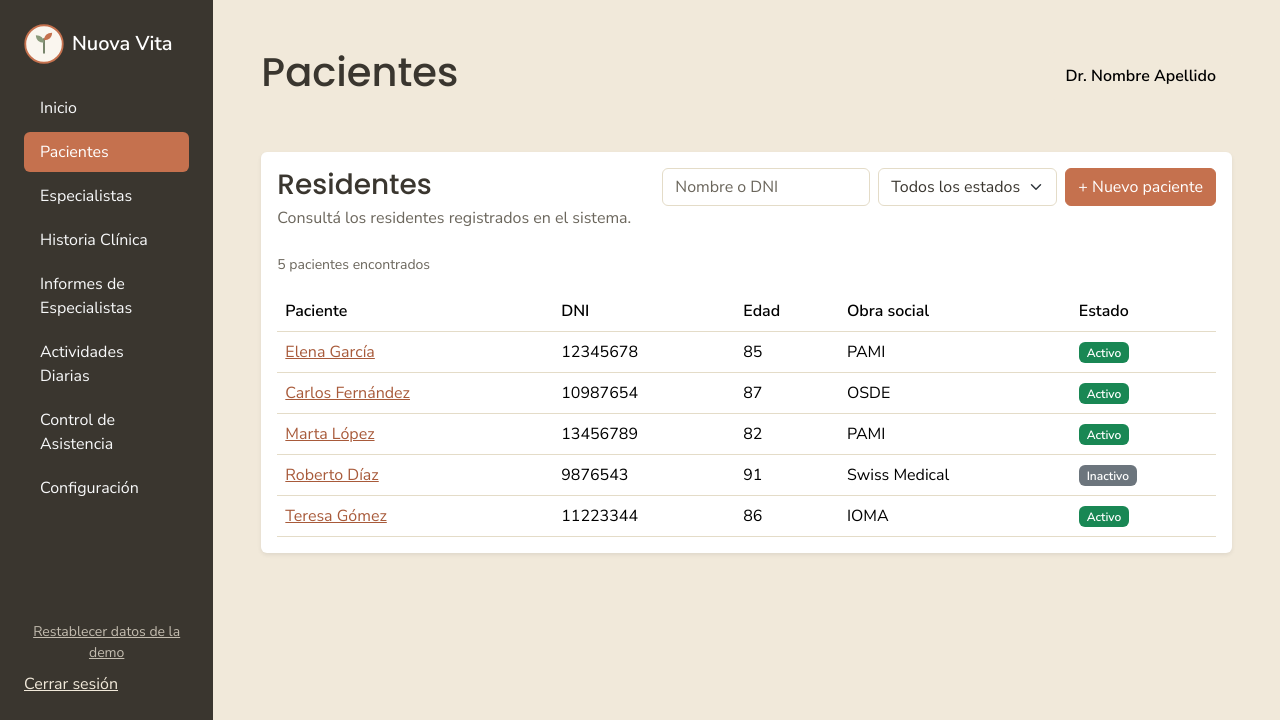
Scenario: ficha y listado › busca por DNI y enlaza cada paciente con su ficha
The image size is (1280, 720).
Type "10987654" into the search field named "Buscar paciente" at [766, 187], box [662,168,870,206]
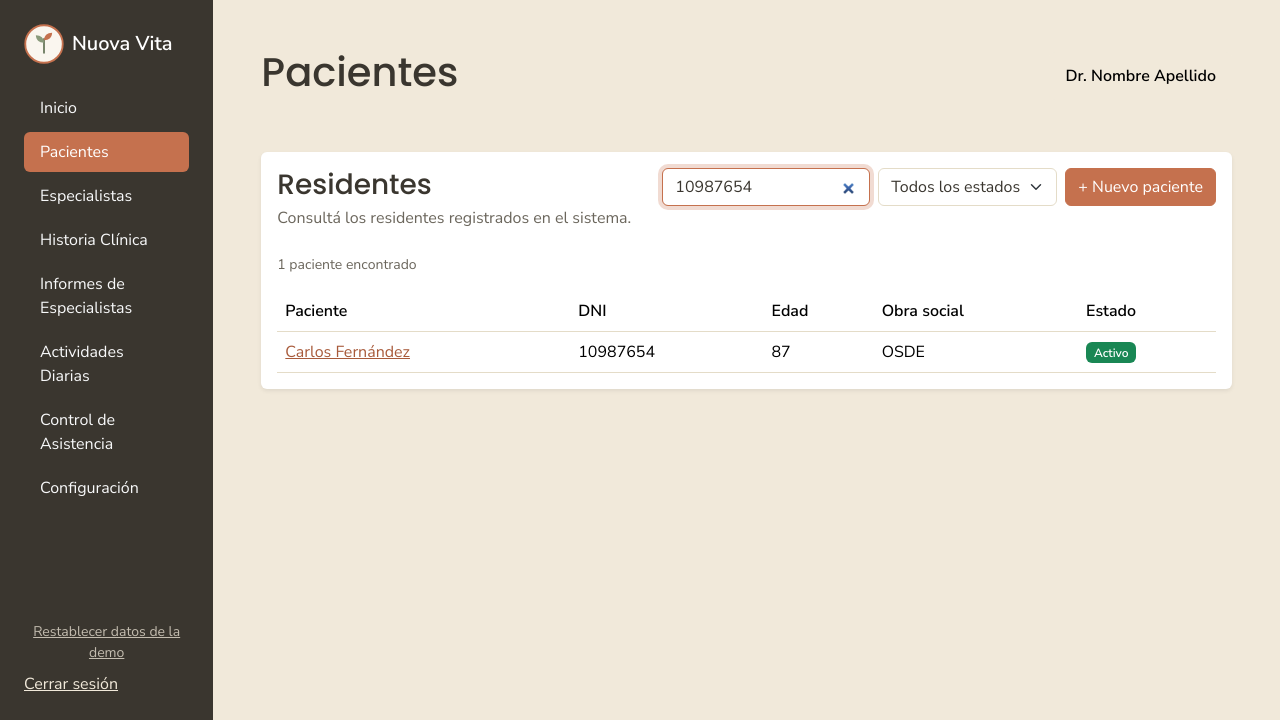
Check: the text "1 paciente encontrado" is shown, box [277,255,417,274]
